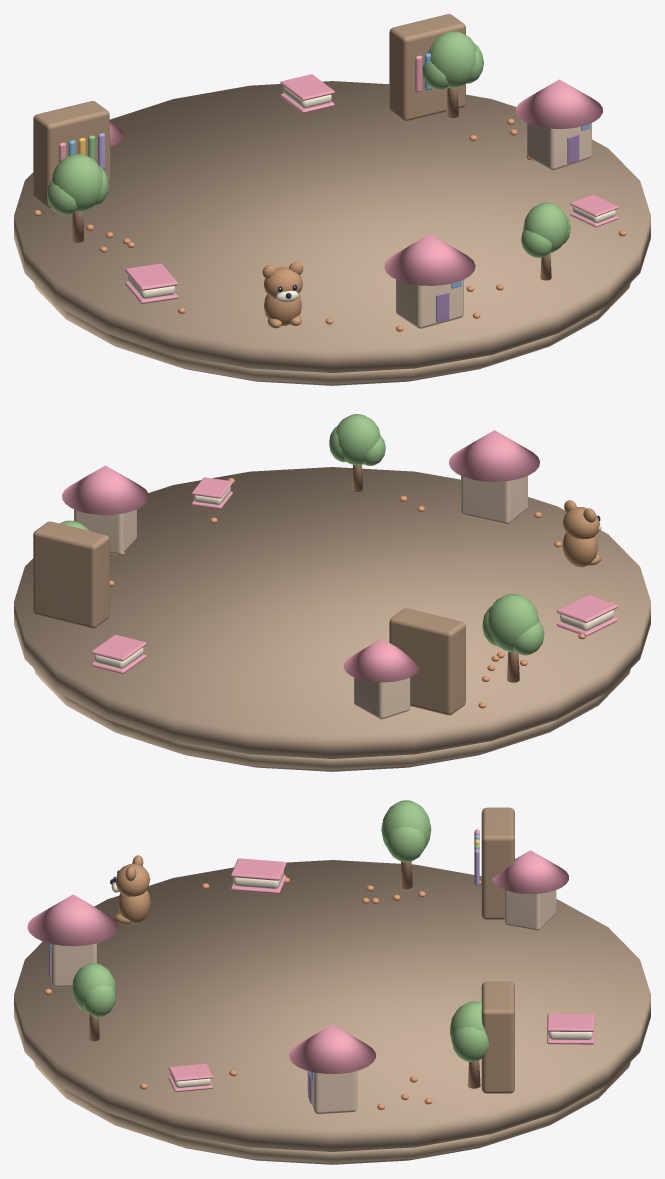
The model's file is world.glb.
3 renders of one model, top to bottom at view 1: azimuth 30°, elevation 25°; view 2: azimuth 150°, elevation 25°; view 3: azimuth 270°, elevation 25°, orthographic.
Parts seen in each view (by area): view 1: Cone, Cone.001, house.003, house.001, Cube.006, Cube, tree.002, tree.001, tree.003, bear.001, book.002, book.001 (+2 smaller); view 2: Cone, Cube.006, Cone.001, Cube, house.003, house.001, house.002, tree.002, tree.003, bear.001, book.002, book.001 (+2 smaller); view 3: Cone, Cone.001, house.001, house.003, house.002, Cube.006, Cube, tree.002, tree.003, tree.001, bear.001, book.002 (+3 smaller).
Part boxes in pixels (x1,y1,x2,y2): Cone: (14, 81, 650, 372); Cone.001: (34, 283, 630, 384); house.003: (384, 234, 475, 328); house.001: (516, 79, 602, 170); Cube.006: (389, 14, 465, 120); Cube: (33, 101, 109, 207); tree.002: (47, 154, 108, 242); tree.001: (422, 31, 483, 117); tree.003: (521, 202, 570, 280); bear.001: (262, 262, 303, 328); book.002: (125, 263, 177, 303); book.001: (280, 74, 334, 113); Cone: (14, 467, 650, 758); Cube.006: (33, 521, 109, 628); Cone.001: (34, 669, 630, 770); Cube: (389, 608, 465, 715); house.003: (449, 430, 539, 524); house.001: (62, 465, 148, 554); house.002: (343, 638, 420, 719); tree.002: (482, 594, 544, 682); tree.003: (329, 414, 385, 491); bear.001: (562, 500, 601, 567); book.002: (556, 594, 617, 636); book.001: (91, 634, 146, 673); Cone: (14, 860, 650, 1151); Cone.001: (34, 1062, 630, 1163); house.001: (289, 1024, 375, 1114); house.003: (27, 894, 118, 987); house.002: (492, 850, 568, 930); Cube.006: (481, 981, 514, 1093); Cube: (481, 807, 514, 919); tree.002: (381, 800, 431, 889); tree.003: (72, 963, 116, 1041); tree.001: (450, 1001, 488, 1088); bear.001: (110, 855, 150, 924); book.002: (231, 858, 286, 893).
Bounding box in the file's own units: 9.6 × 2.2 × 9.6.
